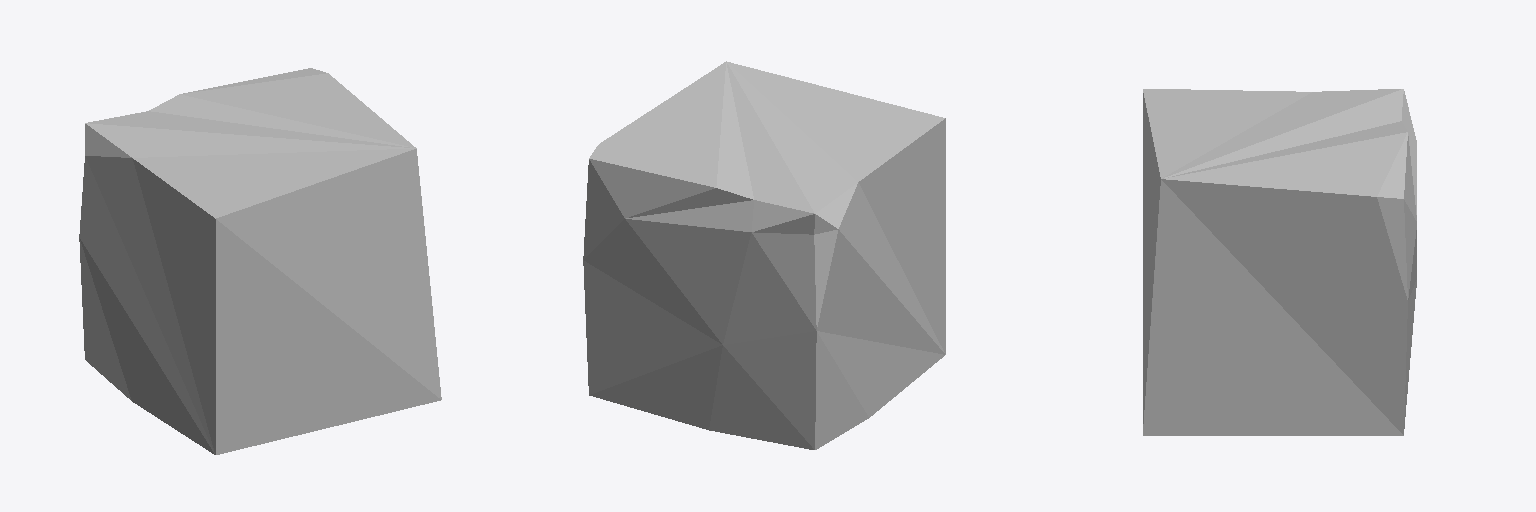
Rendered from Shatterd01.obj.
3 views of the same model, side by side, from view 1: azimuth 30°, elevation 25°; view 2: azimuth 150°, elevation 25°; view 3: azimuth 270°, elevation 25° (orthographic).
Parts seen in each view (by area): view 1: Shatterd01; view 2: Shatterd01; view 3: Shatterd01.
Part boxes in pixels (x1,y1,x2,y2): Shatterd01: (79, 68, 441, 454); Shatterd01: (583, 61, 945, 449); Shatterd01: (1143, 89, 1416, 435).
Size of the model in its own units: 2.12 by 2.12 by 2.08.